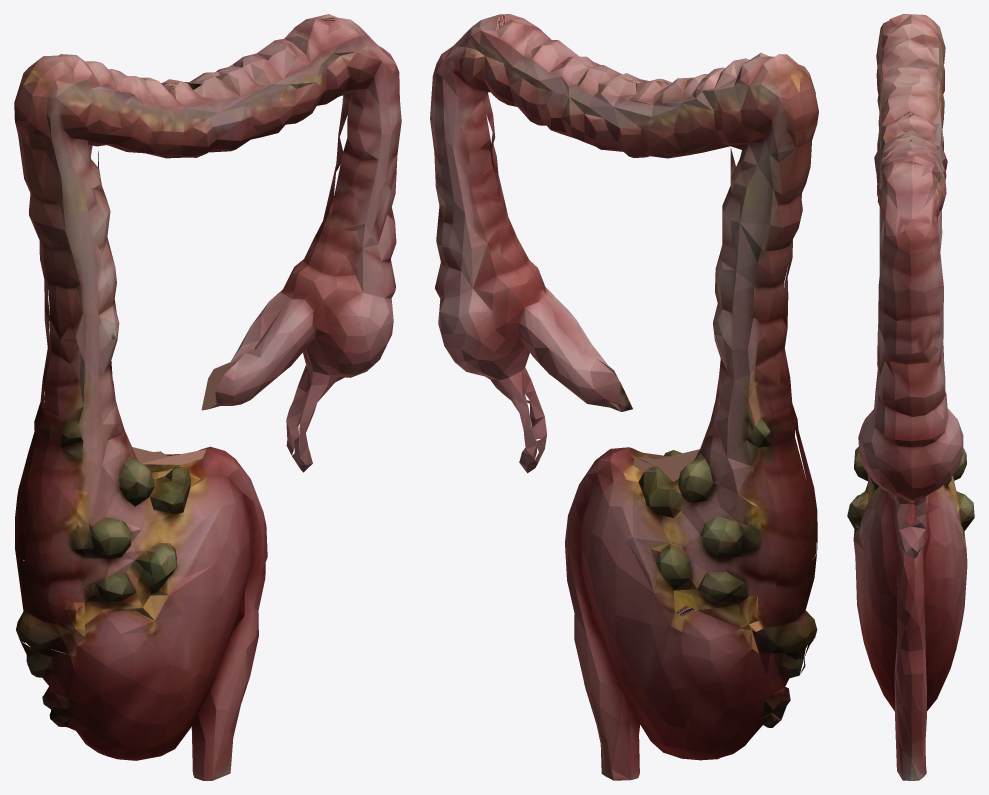
Rendered from Sintomas_Diver.glb.
The picture shows the model from 3 angles, left to right: view 1: azimuth 30°, elevation 25°; view 2: azimuth 150°, elevation 25°; view 3: azimuth 270°, elevation 25°; orthographic projection. The views are drawn at different scales.
Visible parts, largest first — view 1: Diverticulosis; view 2: Diverticulosis; view 3: Diverticulosis.
Boxes of the visible parts, <box> form: Diverticulosis: <box>14,14,401,780</box>; Diverticulosis: <box>430,14,818,780</box>; Diverticulosis: <box>847,14,974,780</box>.
Size of the model in its own units: 0.5224 by 0.9911 by 0.1657.
1 material, 1 textured.
